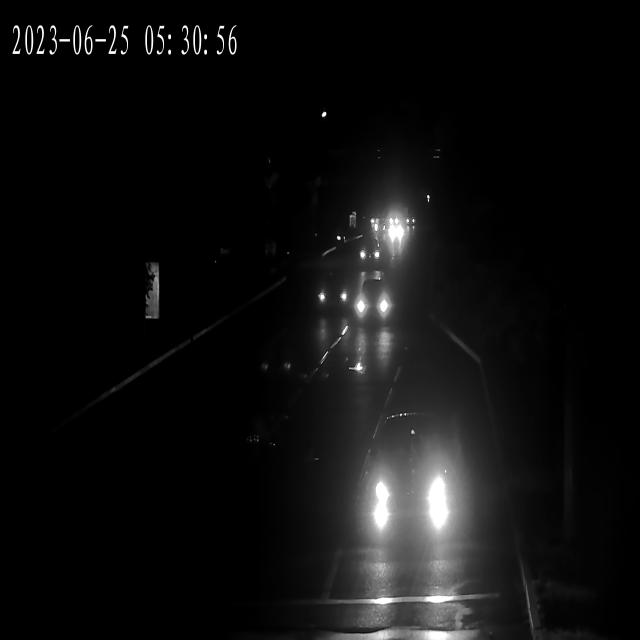Car: (364, 413, 449, 541), (351, 273, 396, 326), (314, 267, 347, 317), (356, 234, 384, 271), (388, 224, 408, 243), (398, 211, 417, 230), (364, 218, 386, 233)
